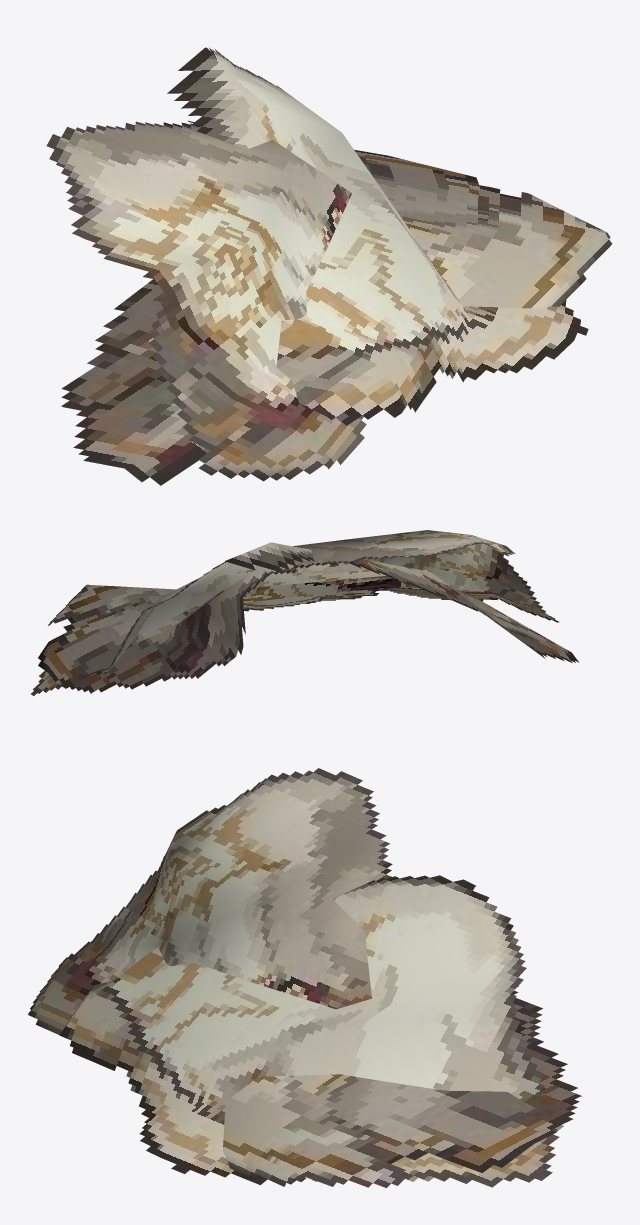
Rendered from DeadManBox_03.glb.
The picture shows the model from 3 angles, top to bottom: view 1: azimuth 30°, elevation 25°; view 2: azimuth 150°, elevation 25°; view 3: azimuth 270°, elevation 25°; orthographic projection. The views are drawn at different scales.
Bounding box in the file's own units: 1.3 × 0.4744 × 1.15.
Materials: 1 (1 with a texture image).
